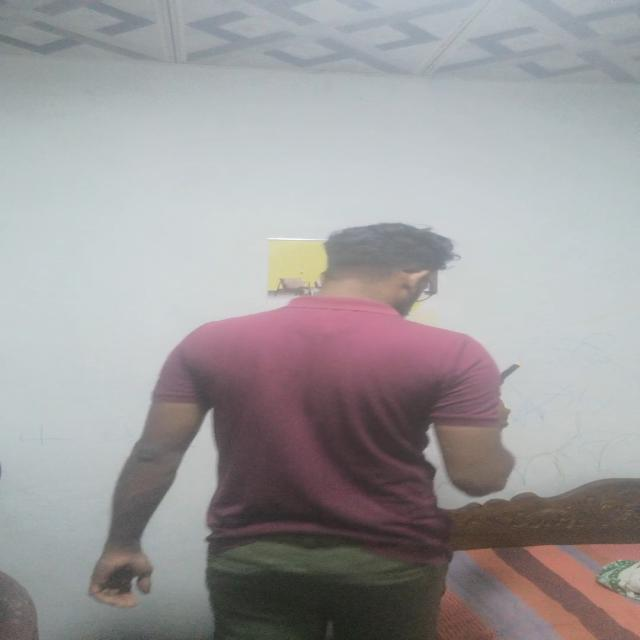Person: (75, 215, 528, 640)
